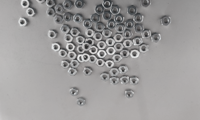nut: (161, 15, 172, 27), (151, 32, 162, 43), (95, 23, 107, 33), (106, 20, 118, 30), (18, 17, 29, 27), (127, 5, 137, 16), (134, 13, 145, 23), (72, 14, 83, 24), (62, 12, 73, 22), (123, 39, 134, 49), (110, 76, 121, 86), (95, 59, 107, 68), (26, 7, 36, 17), (123, 30, 133, 40), (63, 0, 73, 10), (54, 4, 64, 14), (95, 5, 105, 15), (103, 10, 113, 20), (115, 15, 125, 25), (114, 33, 124, 43), (120, 76, 130, 86), (81, 53, 91, 63), (75, 35, 85, 45), (78, 54, 88, 64), (141, 30, 152, 39), (102, 0, 113, 9), (130, 50, 141, 59), (60, 25, 71, 34), (51, 43, 62, 52), (90, 14, 101, 23), (102, 29, 113, 38), (115, 25, 126, 34), (97, 50, 108, 59), (101, 72, 110, 83), (75, 46, 86, 55), (20, 0, 30, 9), (69, 88, 79, 97), (76, 98, 86, 107), (83, 67, 93, 76), (125, 90, 135, 99), (129, 76, 139, 85), (75, 0, 85, 9), (119, 65, 129, 74), (133, 37, 143, 46), (64, 34, 74, 43), (70, 28, 80, 37), (112, 5, 121, 15), (121, 49, 130, 59), (98, 41, 107, 51), (85, 38, 95, 47), (94, 32, 103, 42), (110, 68, 120, 77), (114, 43, 124, 52), (45, 0, 56, 8), (67, 52, 78, 60), (104, 61, 115, 69), (140, 44, 149, 53), (54, 15, 63, 24), (66, 43, 75, 52), (107, 47, 116, 56), (135, 25, 145, 33), (47, 31, 57, 39), (46, 9, 56, 17), (84, 19, 92, 29), (58, 50, 68, 58), (85, 29, 95, 37), (141, 0, 152, 7), (67, 69, 78, 76), (61, 61, 70, 69), (70, 61, 79, 69), (106, 39, 116, 46), (82, 44, 92, 51), (90, 46, 98, 54), (90, 56, 96, 64), (36, 1, 46, 4)
